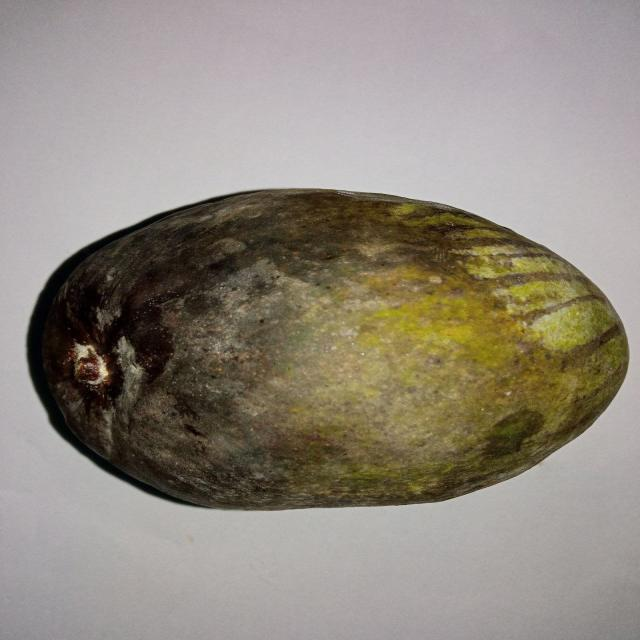rotten_mango: (40, 188, 619, 510)
